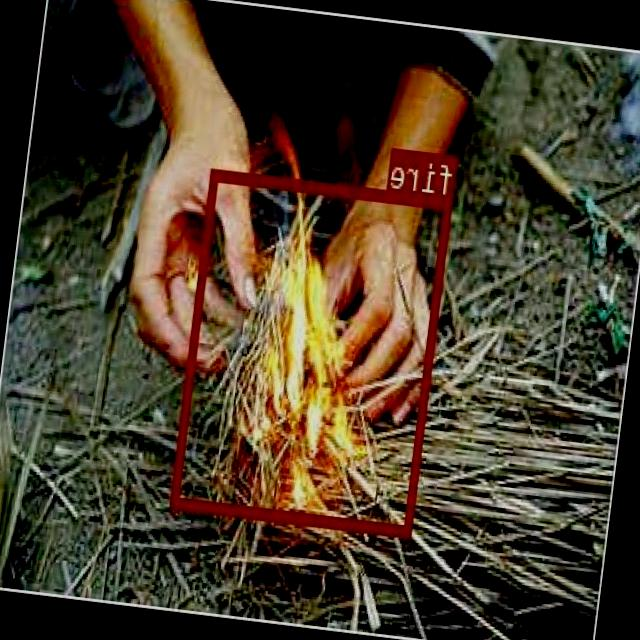fire: (172, 167, 453, 536)
